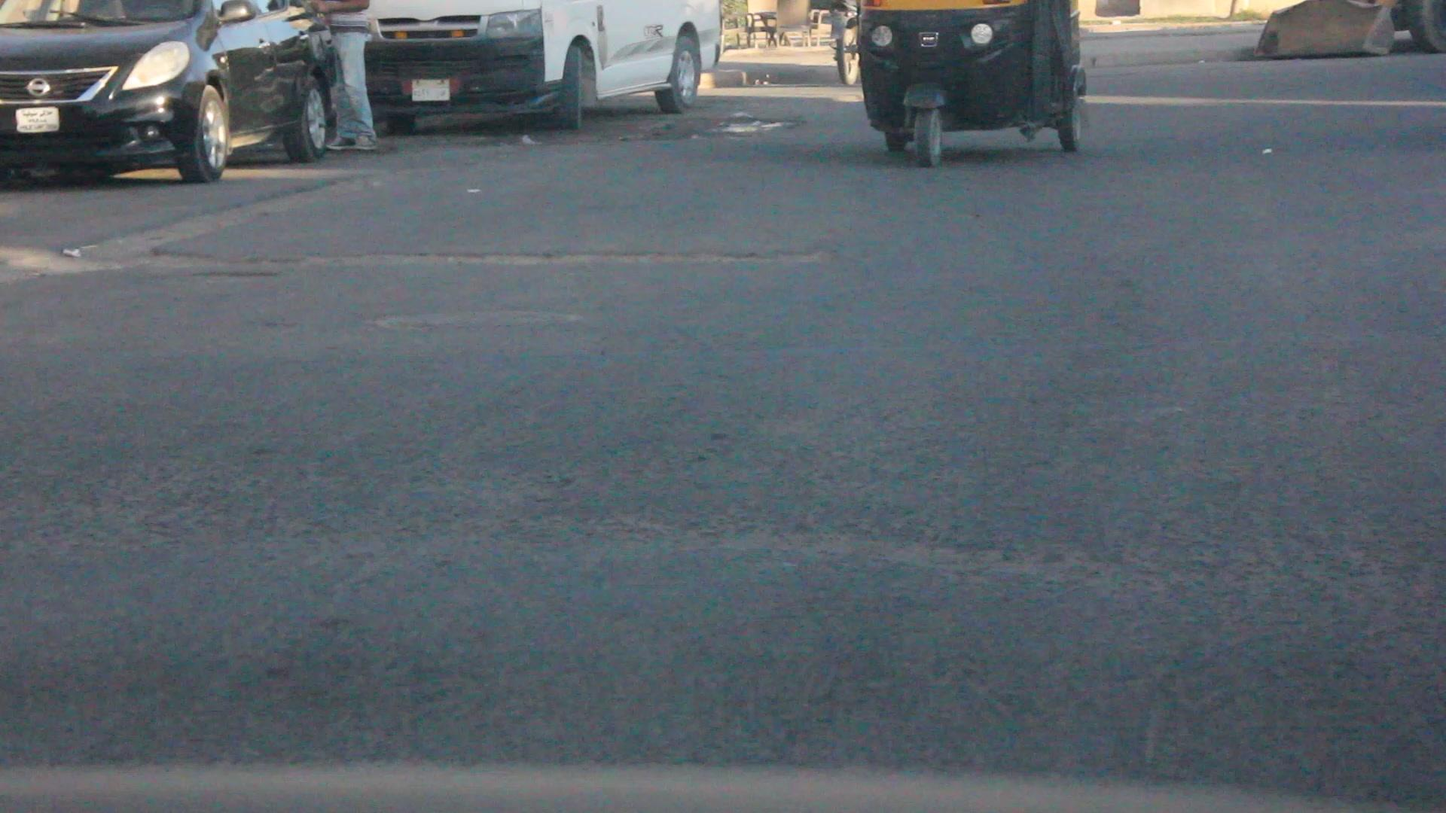Pothole: (194, 243, 908, 284), (661, 107, 806, 158)
